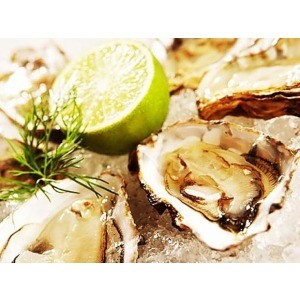oyster_brain food: (161, 51, 286, 229), (13, 184, 135, 258)
